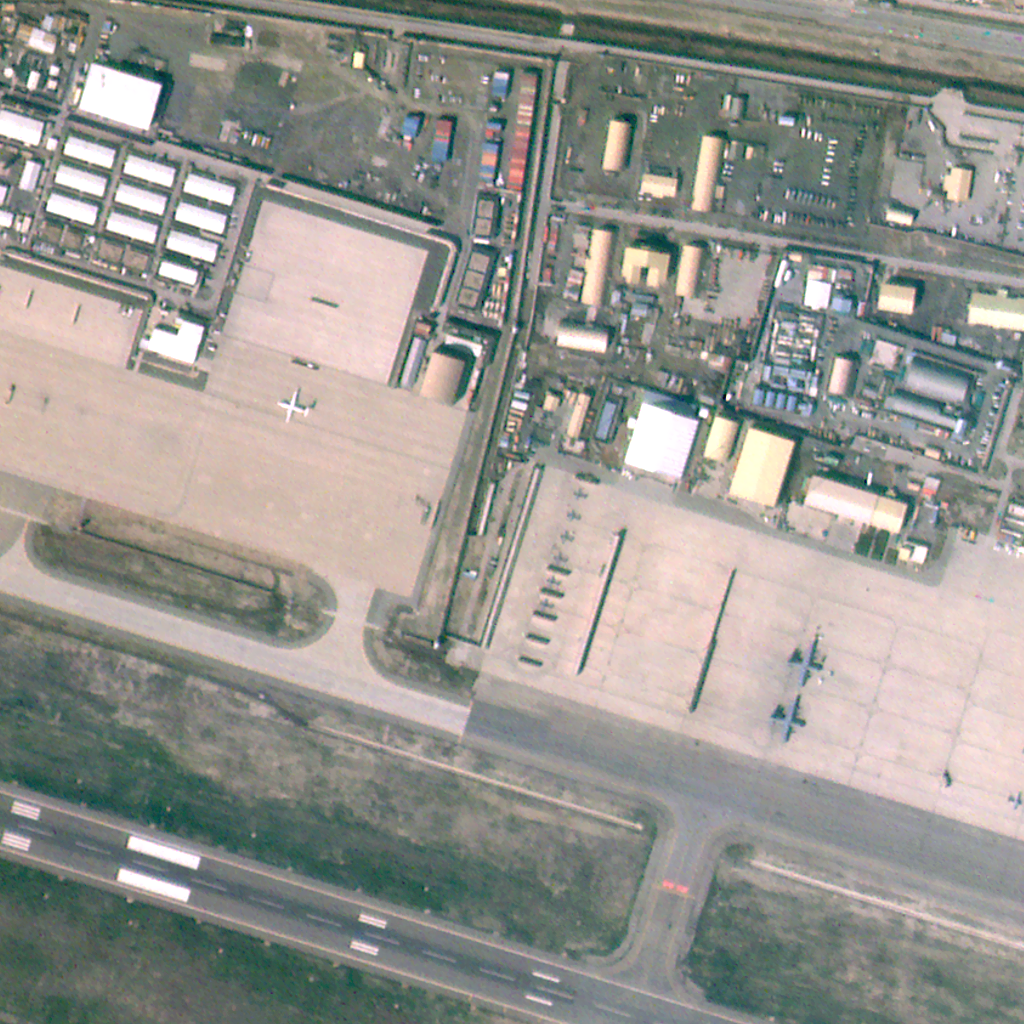plane: (789, 643, 829, 687), (772, 698, 809, 743), (278, 389, 313, 422), (572, 485, 594, 500), (1007, 791, 1024, 807), (539, 596, 555, 609), (554, 552, 572, 563), (568, 509, 583, 521), (559, 528, 572, 539), (548, 576, 563, 585)
